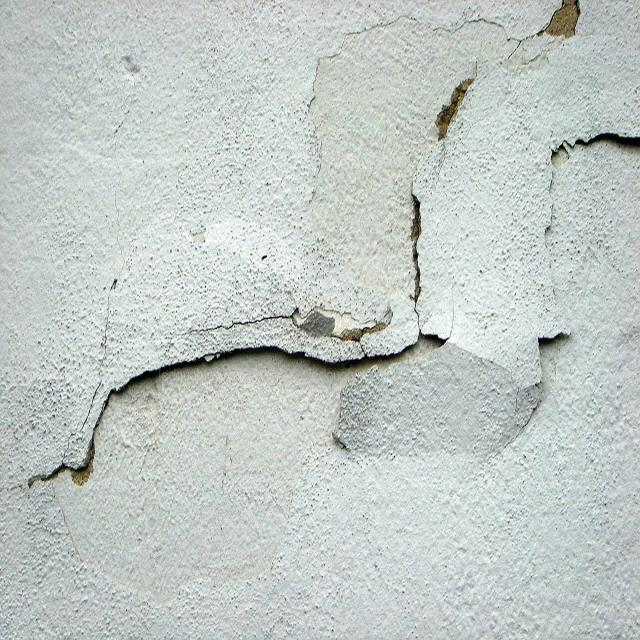crack: (23, 328, 450, 490), (523, 126, 640, 440), (434, 76, 473, 140), (408, 191, 423, 303), (539, 0, 581, 35)
